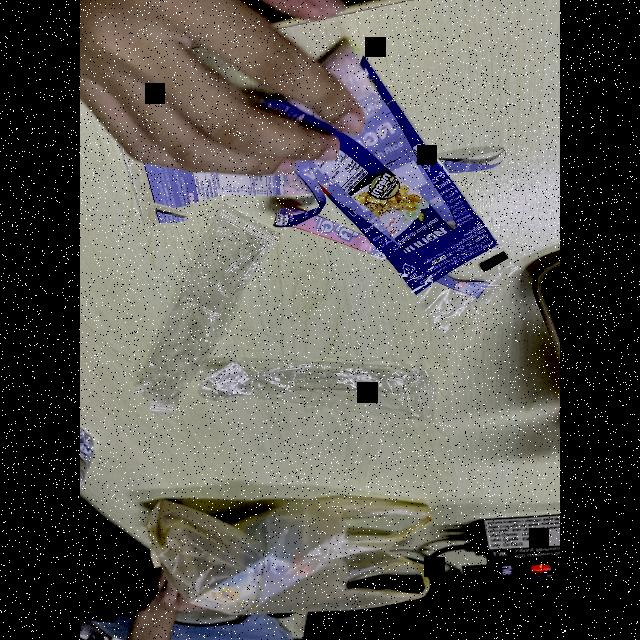scrap_plastic: (265, 38, 515, 340), (118, 215, 276, 403), (201, 362, 443, 428)
